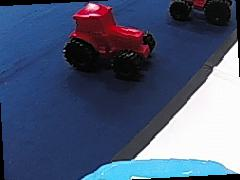Tracktor: (63, 1, 157, 78), (166, 0, 234, 25)
